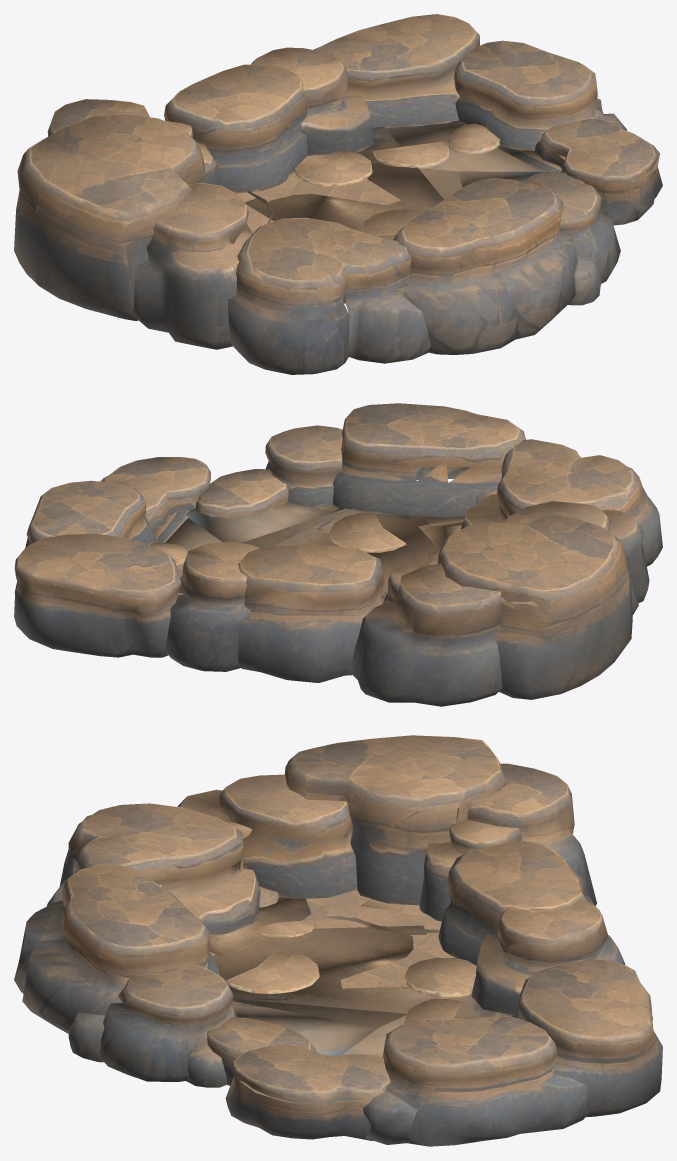
Rendered from Poca_Mare.glb.
3 renders of one model, top to bottom at view 1: azimuth 30°, elevation 25°; view 2: azimuth 150°, elevation 25°; view 3: azimuth 270°, elevation 25°, orthographic. The views are drawn at different scales.
Size of the model in its own units: 1 by 0.2021 by 0.9043.
Materials: 1 (1 with a texture image).
